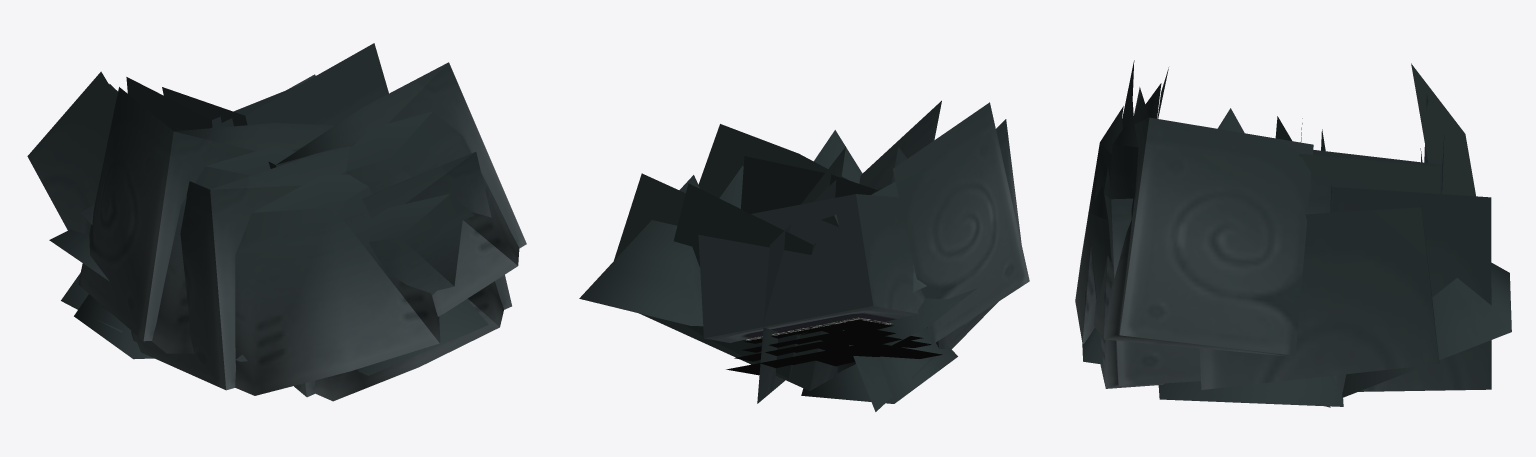
Rendered from modelset_monitors.glb.
3 views of the same model, side by side, from view 1: azimuth 30°, elevation 25°; view 2: azimuth 150°, elevation 25°; view 3: azimuth 270°, elevation 25° (orthographic). The views are drawn at different scales.
Parts seen in each view (by area): view 1: A:\.Yandex.YandexDisk.SK SHARED FILES.Game models.1 Exported (×6); view 2: A:\.Yandex.YandexDisk.SK SHARED FILES.Game models.1 Exported (×7); view 3: A:\.Yandex.YandexDisk.SK SHARED FILES.Game models.1 Exported (×6).
Boxes of the visible parts, x1,y1,x2,y2 form: A:\.Yandex.YandexDisk.SK SHARED FILES.Game models.1 Exported (×6): [27, 43, 526, 401]; A:\.Yandex.YandexDisk.SK SHARED FILES.Game models.1 Exported (×7): [579, 100, 1029, 411]; A:\.Yandex.YandexDisk.SK SHARED FILES.Game models.1 Exported (×6): [1075, 60, 1511, 407].
Bounding box in the file's own units: 1.71 × 1.45 × 1.76.
Materials: 3 (3 with a texture image).
